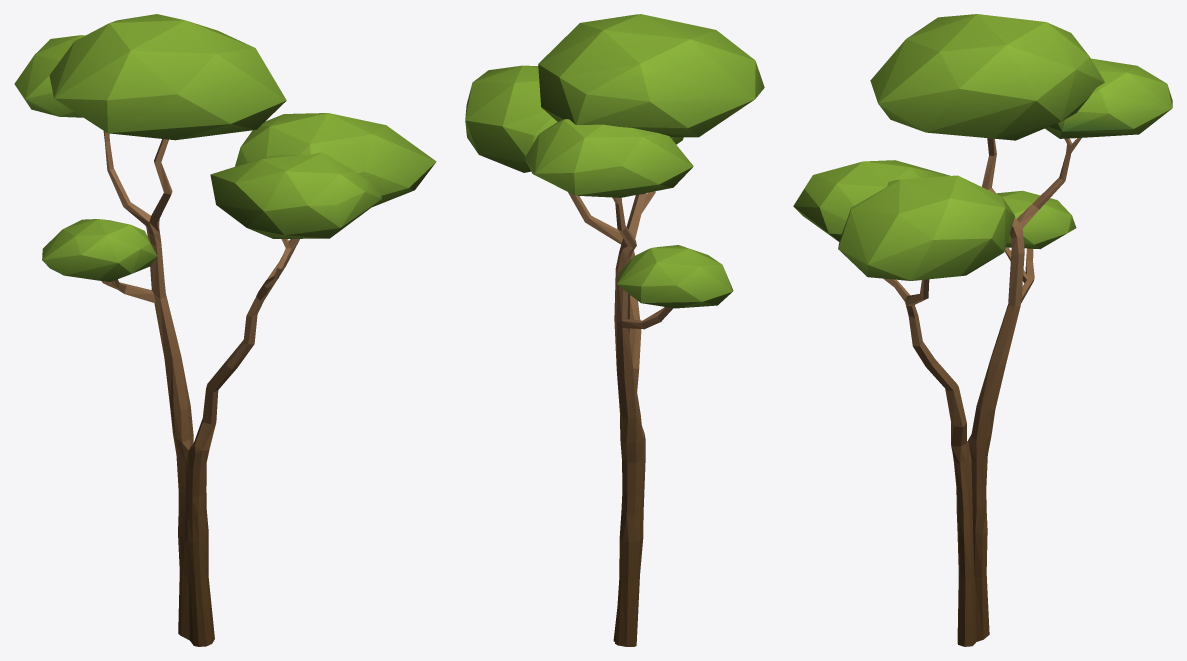
File: ZLP_Plant_F_3.FBX
3 views of the same model, side by side, from view 1: azimuth 30°, elevation 25°; view 2: azimuth 150°, elevation 25°; view 3: azimuth 270°, elevation 25° (orthographic). The views are drawn at different scales.
Parts seen in each view (by area): view 1: ZLP_Plant_F_3; view 2: ZLP_Plant_F_3; view 3: ZLP_Plant_F_3.
Part boxes in pixels (x1,y1,x2,y2): ZLP_Plant_F_3: [14, 14, 436, 646]; ZLP_Plant_F_3: [465, 14, 764, 646]; ZLP_Plant_F_3: [793, 14, 1172, 646].
Size of the model in its own units: 194 by 352 by 202.
